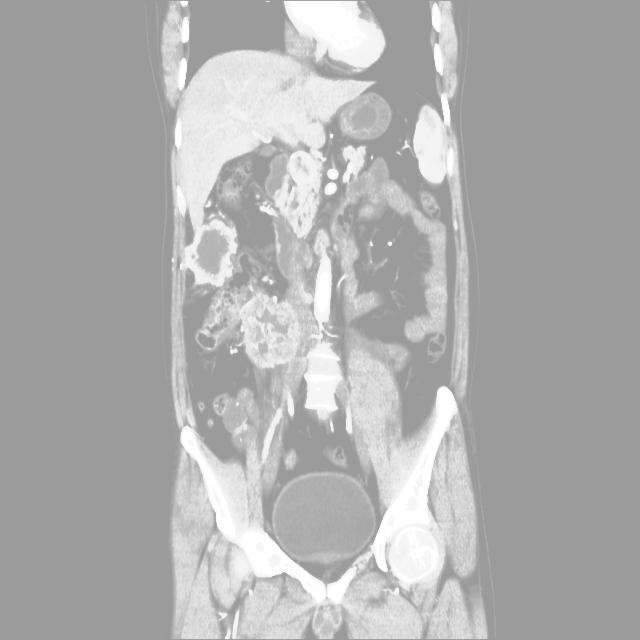TUMOR: (144, 231, 287, 480)
